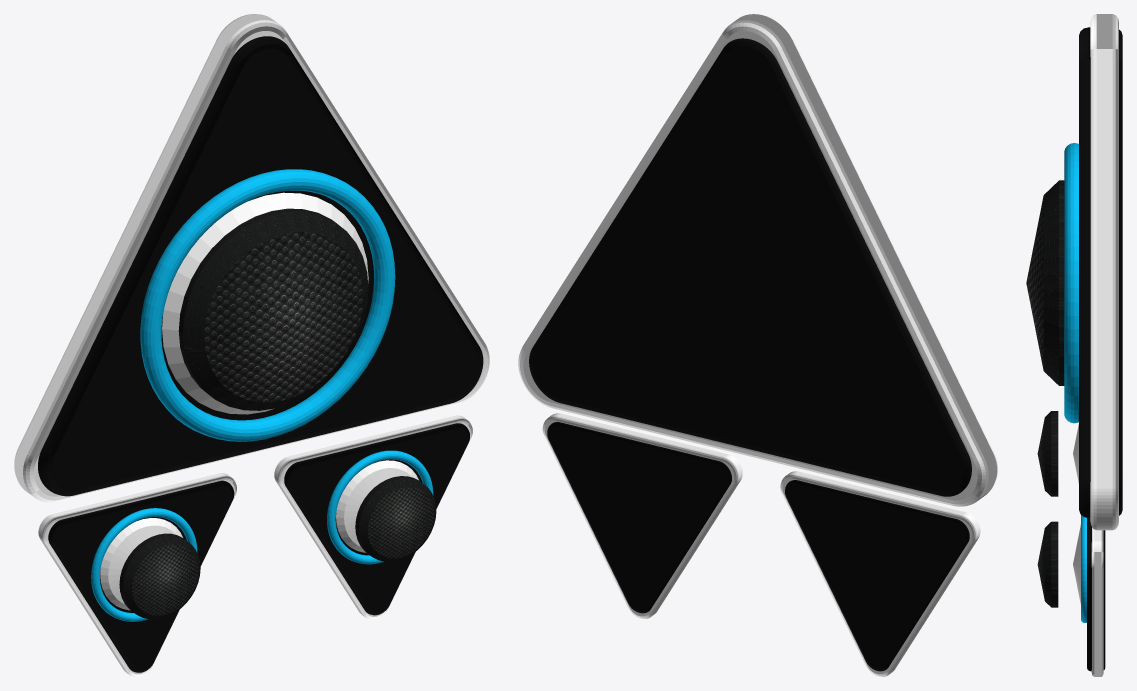
The model's file is Baflesgame.fbx.
3 renders of one model, left to right at view 1: azimuth 30°, elevation 25°; view 2: azimuth 150°, elevation 25°; view 3: azimuth 270°, elevation 25°, orthographic. The views are drawn at different scales.
Parts seen in each view (by area): view 1: trian_negro_2, malla_bafle_2, trian_b_2, anillo_azul_2, trian_negro_3, trian_negro, parte_blanca_2, malla_bafle, malla_bafle_3, trian_b, trian_b_3, parte_blanca (+3 smaller); view 2: trian_negro_2, trian_b_2, trian_negro, trian_negro_3, trian_b_3, trian_b; view 3: trian_b_2, trian_negro_2, malla_bafle_2, anillo_azul_2, trian_b, malla_bafle, malla_bafle_3, trian_negro, anillo_azul, parte_blanca, parte_blanca_3.
Part boxes in pixels (x1,y1,x2,y2): trian_negro_2: [38, 36, 483, 496]; malla_bafle_2: [178, 208, 368, 410]; trian_b_2: [14, 14, 489, 502]; anillo_azul_2: [140, 169, 395, 441]; trian_negro_3: [48, 480, 234, 672]; trian_negro: [284, 423, 469, 615]; parte_blanca_2: [162, 192, 368, 414]; malla_bafle: [355, 476, 436, 561]; malla_bafle_3: [119, 533, 200, 619]; trian_b: [274, 415, 472, 619]; trian_b_3: [38, 473, 236, 676]; parte_blanca: [336, 460, 418, 552]; trian_negro_2: [529, 38, 971, 496]; trian_b_2: [518, 14, 997, 506]; trian_negro: [547, 422, 731, 613]; trian_negro_3: [785, 480, 969, 671]; trian_b_3: [780, 471, 980, 676]; trian_b: [542, 413, 742, 618]; trian_b_2: [1090, 14, 1118, 530]; trian_negro_2: [1079, 27, 1122, 517]; malla_bafle_2: [1026, 180, 1064, 385]; anillo_azul_2: [1064, 143, 1078, 423]; trian_b: [1091, 527, 1103, 676]; malla_bafle: [1037, 521, 1058, 607]; malla_bafle_3: [1037, 411, 1058, 496]; trian_negro: [1087, 518, 1105, 671]; anillo_azul: [1081, 515, 1086, 622]; parte_blanca: [1073, 524, 1080, 604]; parte_blanca_3: [1073, 424, 1078, 483].
Bounding box in the file's own units: 423 × 542 × 78.65.
4 materials, 1 textured.
